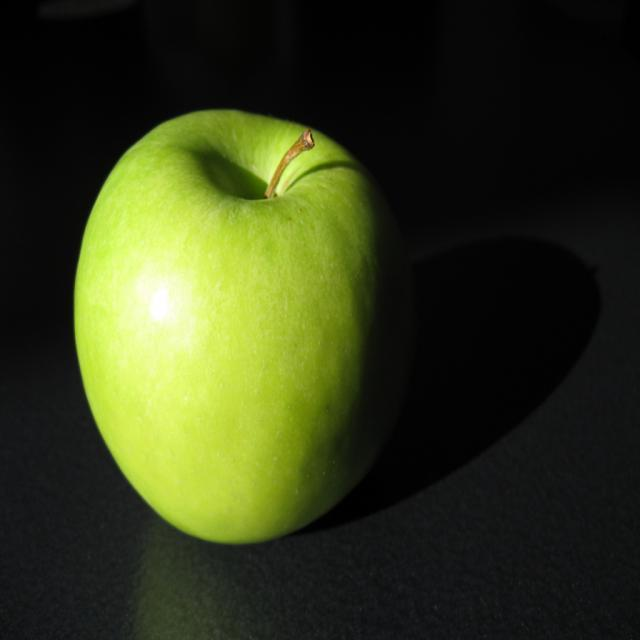Apple: (72, 109, 406, 546)
